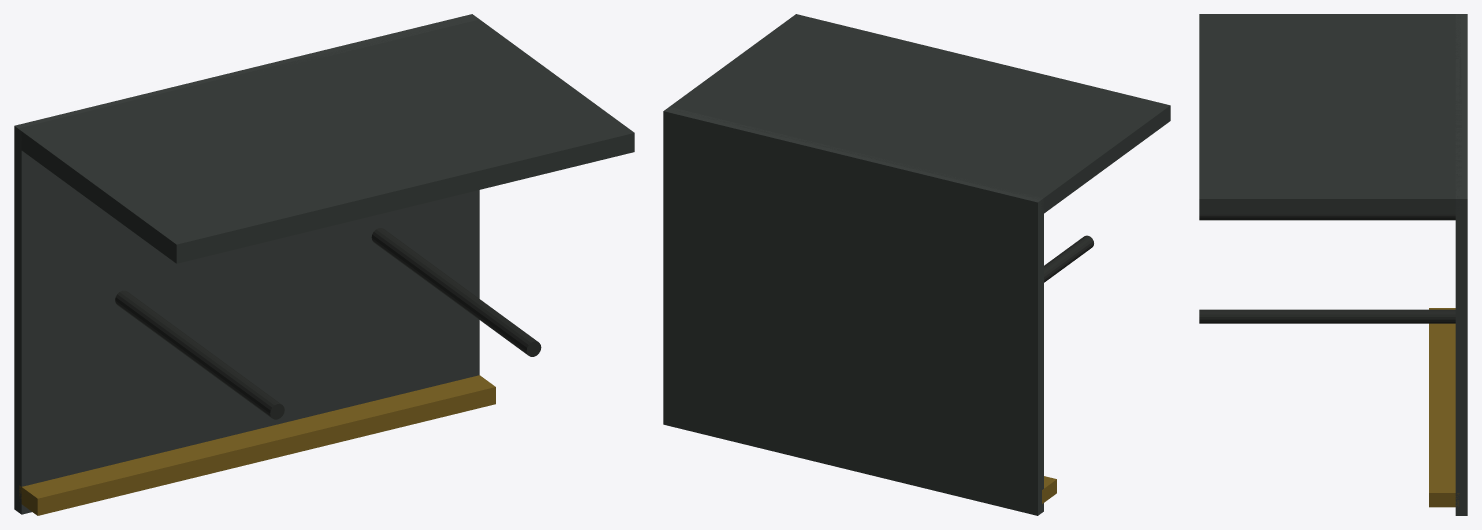
File: metro_platform_module.obj
3 views of the same model, side by side, from view 1: azimuth 30°, elevation 25°; view 2: azimuth 150°, elevation 25°; view 3: azimuth 270°, elevation 25° (orthographic). The views are drawn at different scales.
Parts seen in each view (by area): view 1: metro_platform_module; view 2: metro_platform_module; view 3: metro_platform_module.
Boxes of the visible parts, x1=… form: metro_platform_module: x1=14, y1=14, x2=634, y2=515; metro_platform_module: x1=663, y1=14, x2=1170, y2=515; metro_platform_module: x1=1199, y1=14, x2=1467, y2=515.
Bounding box in the file's own units: 5 × 4 × 3.07.
